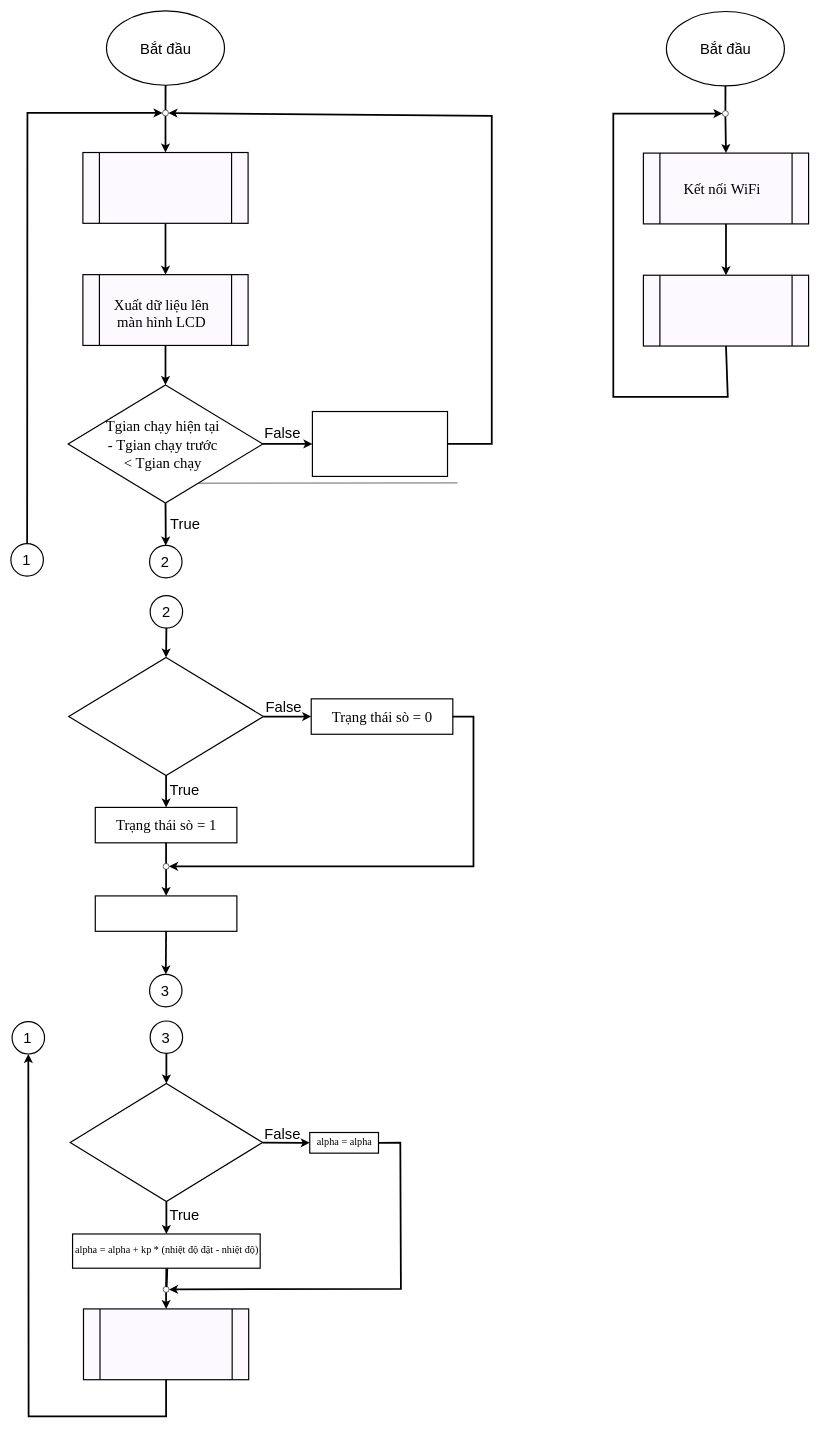
This 819x1432 diagram has some shape labels left out. Here are the shapes that lost their labels. From the top down, the box of each, then its label:
(82, 152, 248, 224): Đọc dữ liệu từ cảm biến nhiệt độ và độ ẩm
(643, 274, 809, 346): Xuất/Nhập dữ liệu lên Blynk
(312, 411, 448, 477): Trạng thái quạt = 0 Trạng thái sò = 0 Trạng thái trở = 0
(68, 657, 264, 776): Độ ẩm >= Độ ẩm đặt
(94, 895, 237, 932): Trạng thái quạt = 1
(69, 1083, 263, 1202): Ts hiện tại - Ts trước >= Ts
(83, 1308, 249, 1380): Xuất dữ liệu lên Google Sheet
